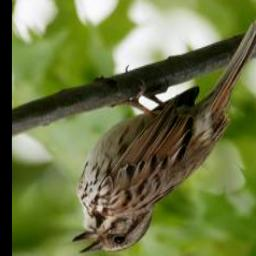Sparrow: (68, 12, 256, 256)
